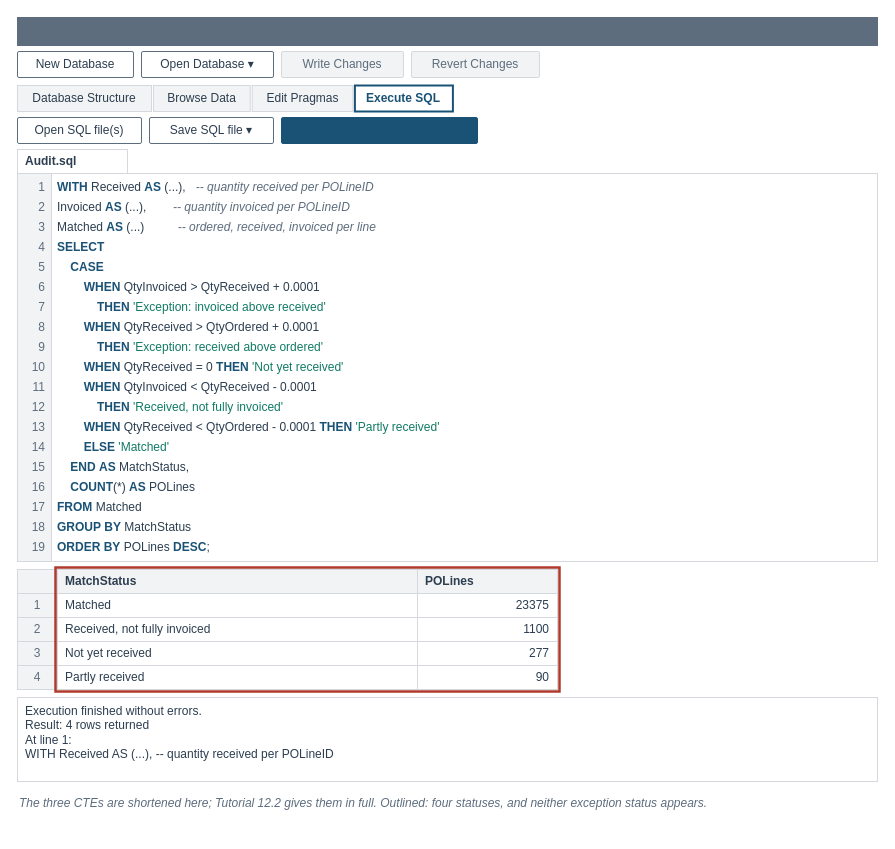
Some shapes in this 895 by 849 pixel diagram are drawn without their labels. The centre of each missing label's shape, as x and y in pixels:
DB Browser for SQLite - C:\Users\you\Documents\CharlesRiver_Work.sqlite: the point at 447,31
▶ Execute all/selected SQL: the point at 379,130
